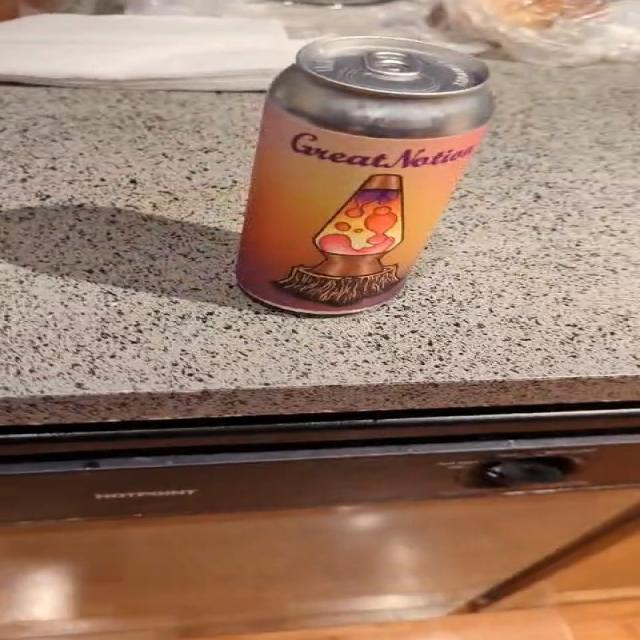metal: (236, 36, 494, 314)
